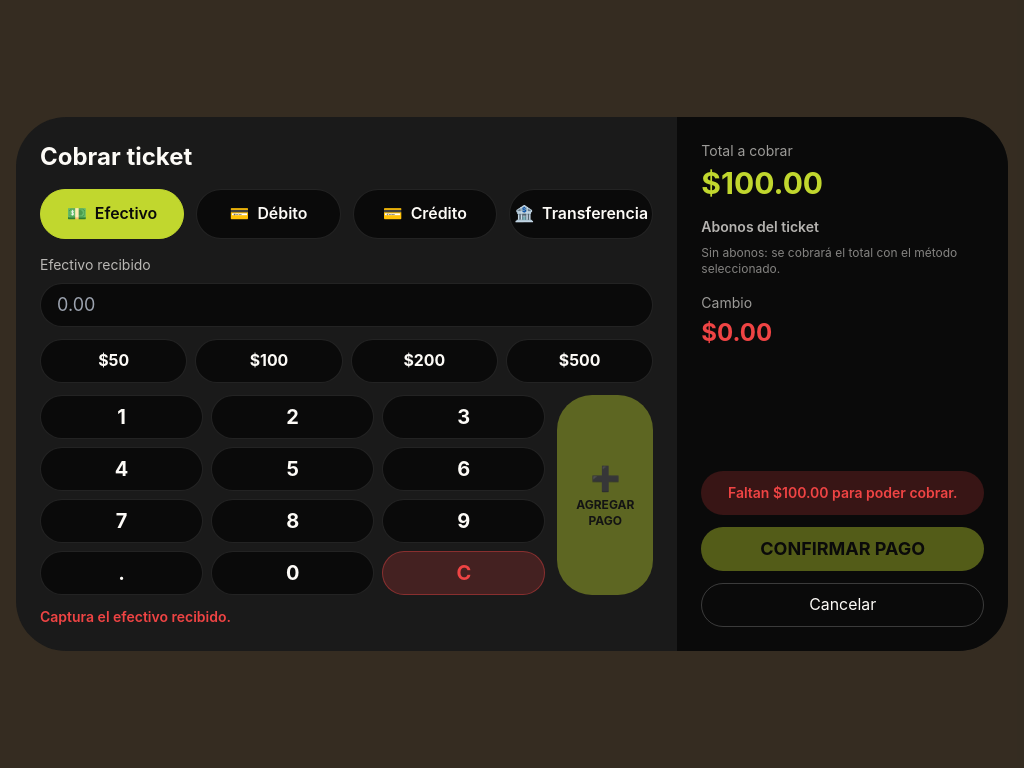
it: CheckoutScreen — cobro (efectivo, tarjeta, cambio, validación) › F3.4: muestra el faltante cuando el efectivo es insuficiente
Type "40" into the number field labelled "Efectivo recibido".
click(347, 305); type("40")  # box [40,283,653,327]
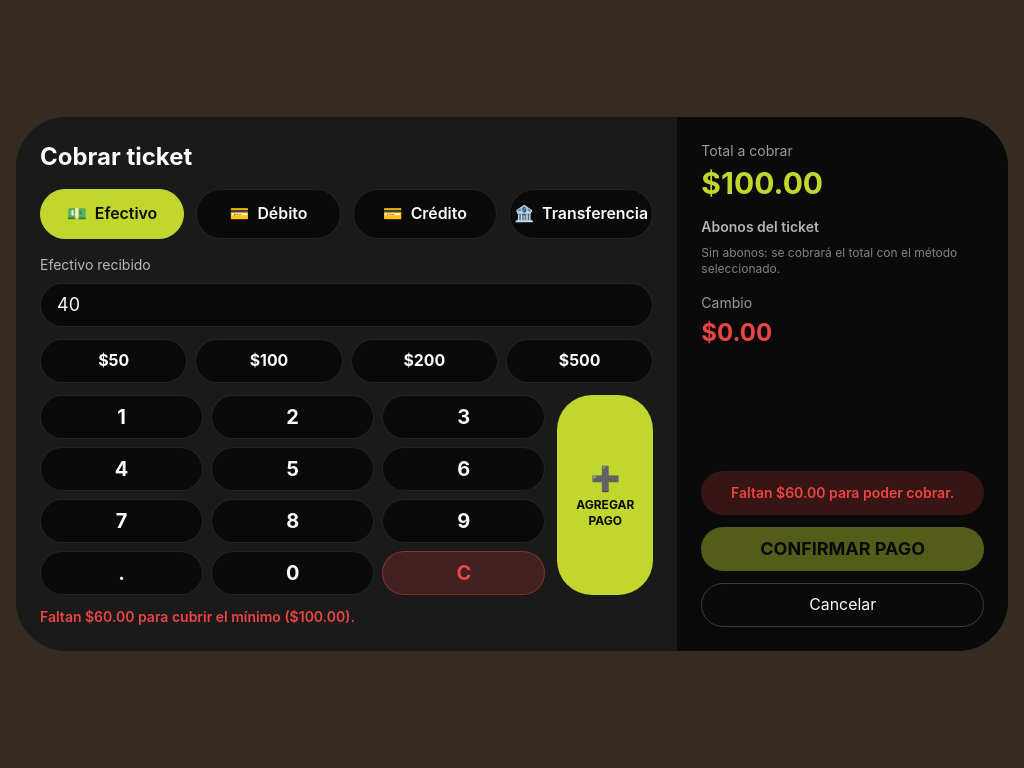
Expected: the button "CONFIRMAR PAGO" is disabled, [701,527,984,571]
Now the text "Faltan $60.00 para cubrir el mínimo ($100.00)." is shown, box [40,608,355,625]
